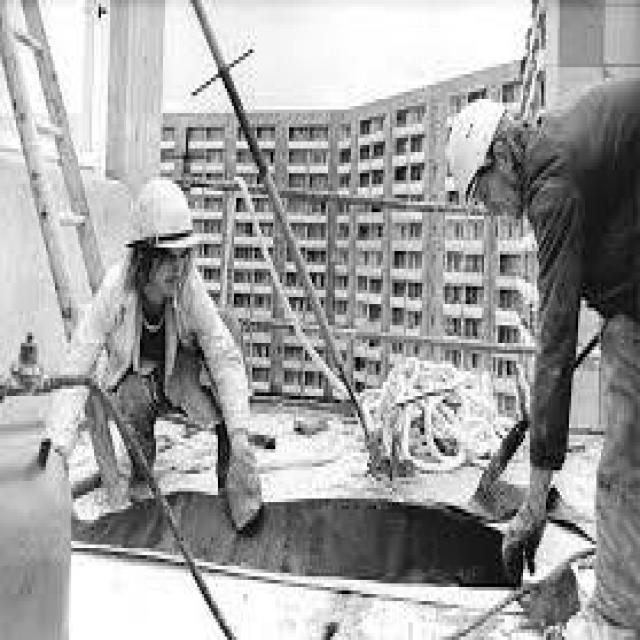Safety-Helmet: (117, 162, 206, 268)
